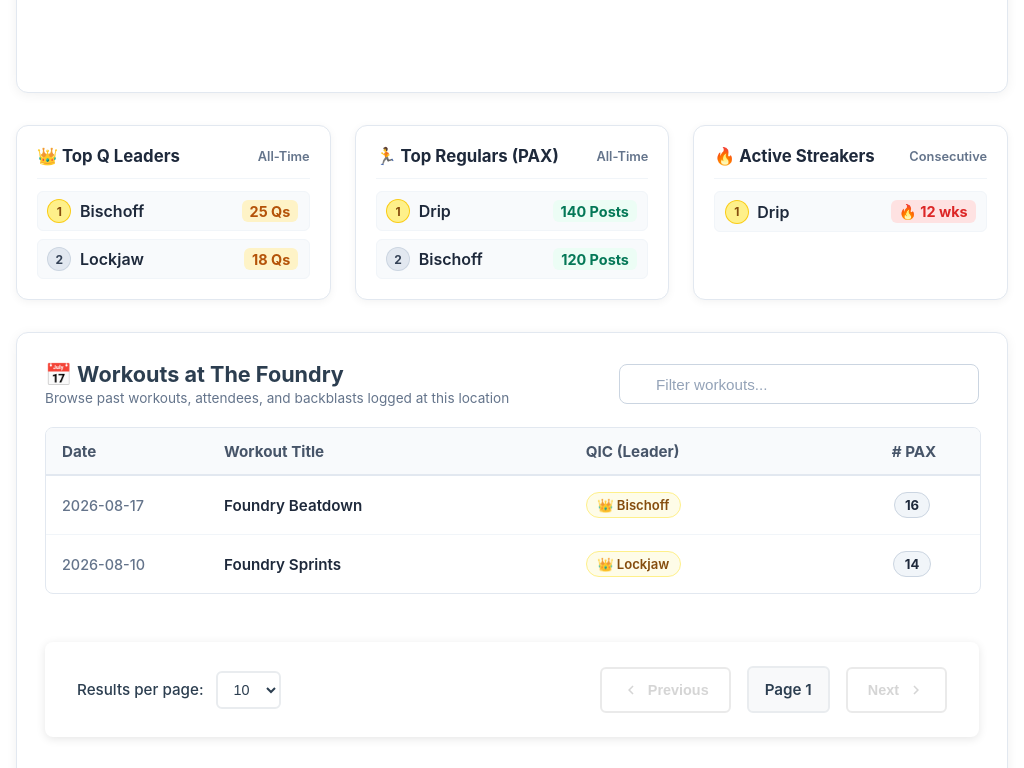
Scenario: AODetail Component › filters workouts by query text
The width and height of the screenshot is (1024, 768).
(page scrolled)
Expected: the link "Foundry Beatdown" is shown, [224,496,362,515]
Type "Sprints" into the field with placeholder "Filter workouts..." at [799, 384], box [619,364,979,404]
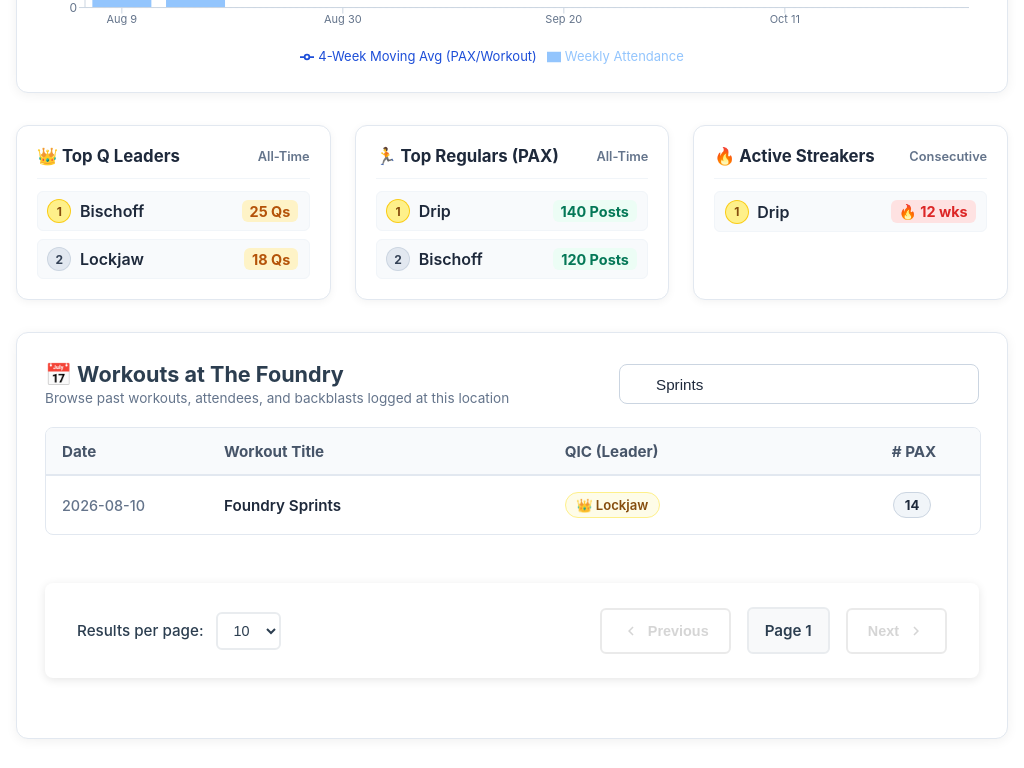
Expected: the link "Foundry Sprints" is shown, [224,496,341,515]
Expected: the link "Foundry Beatdown" is gone
